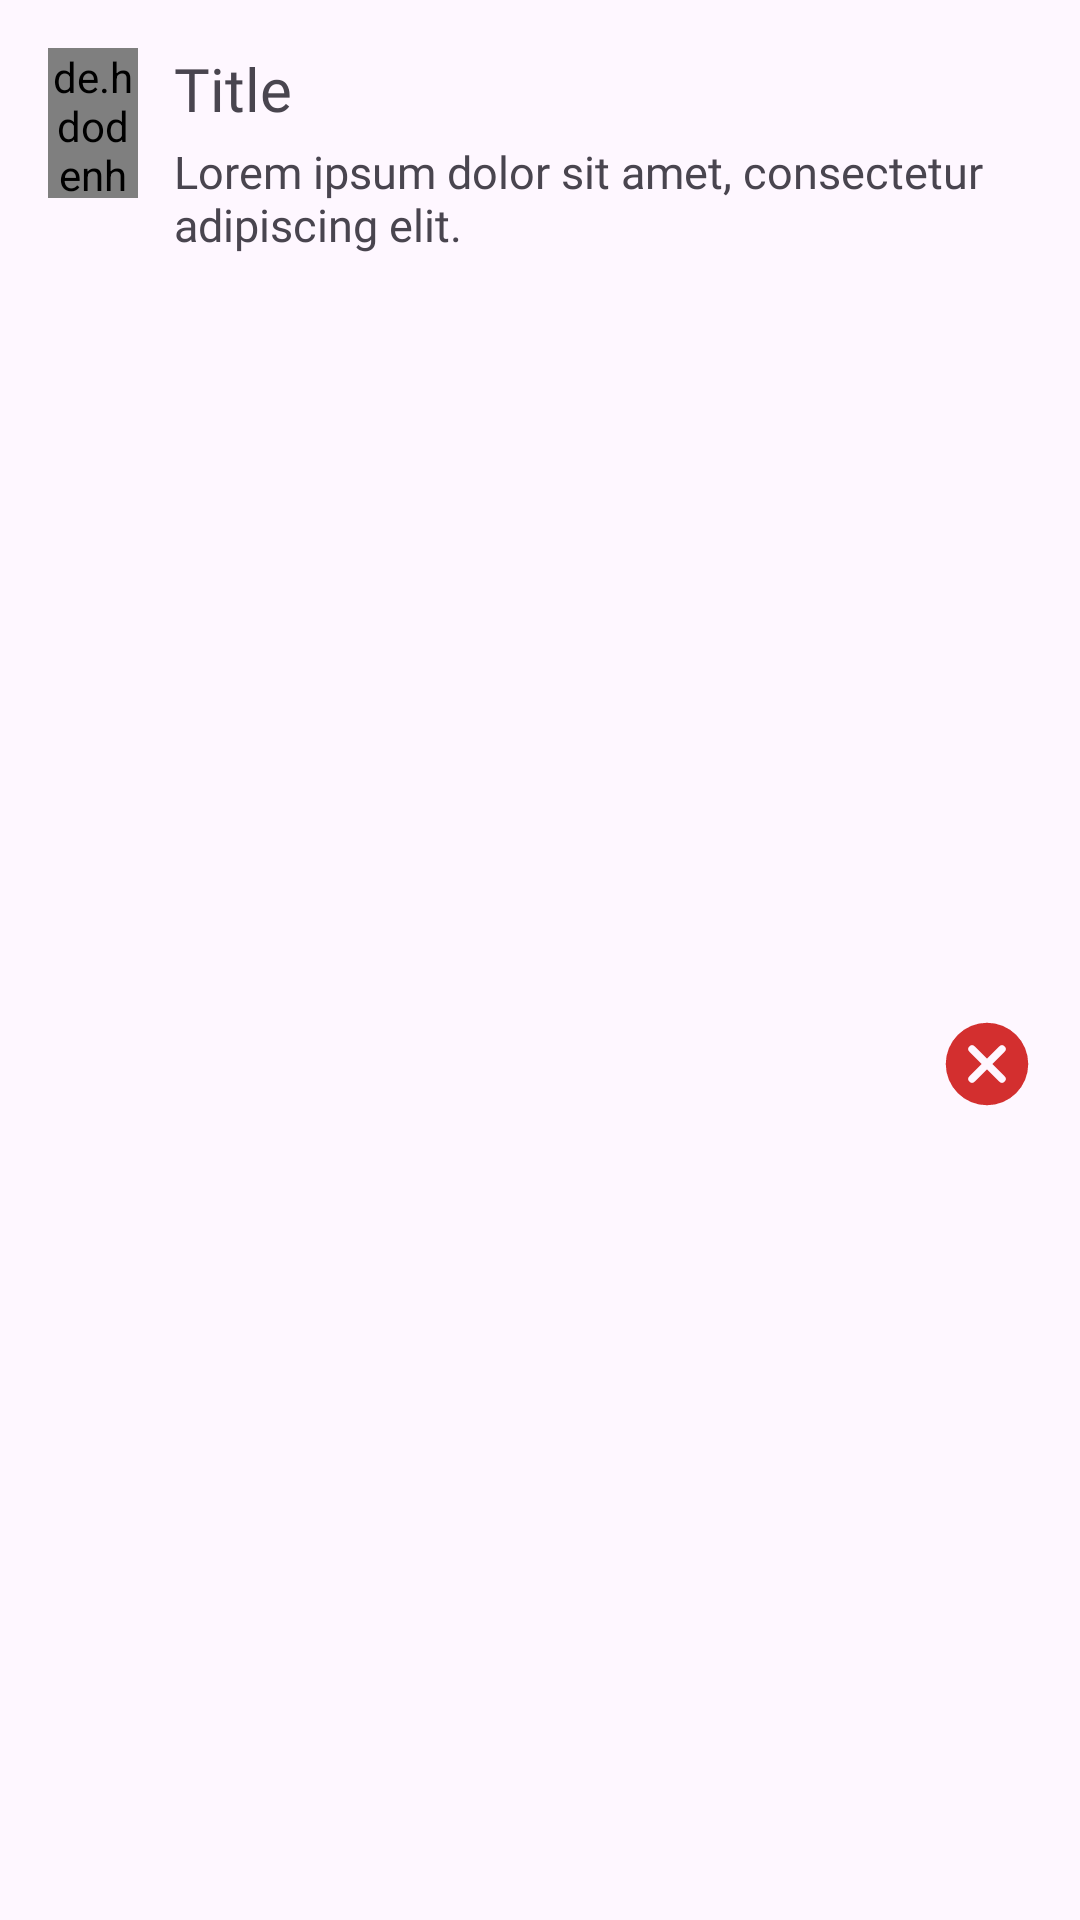

Icon click points for this 1080×1920 phone screenshot, format (x,y):
Decline: (987,1064)
